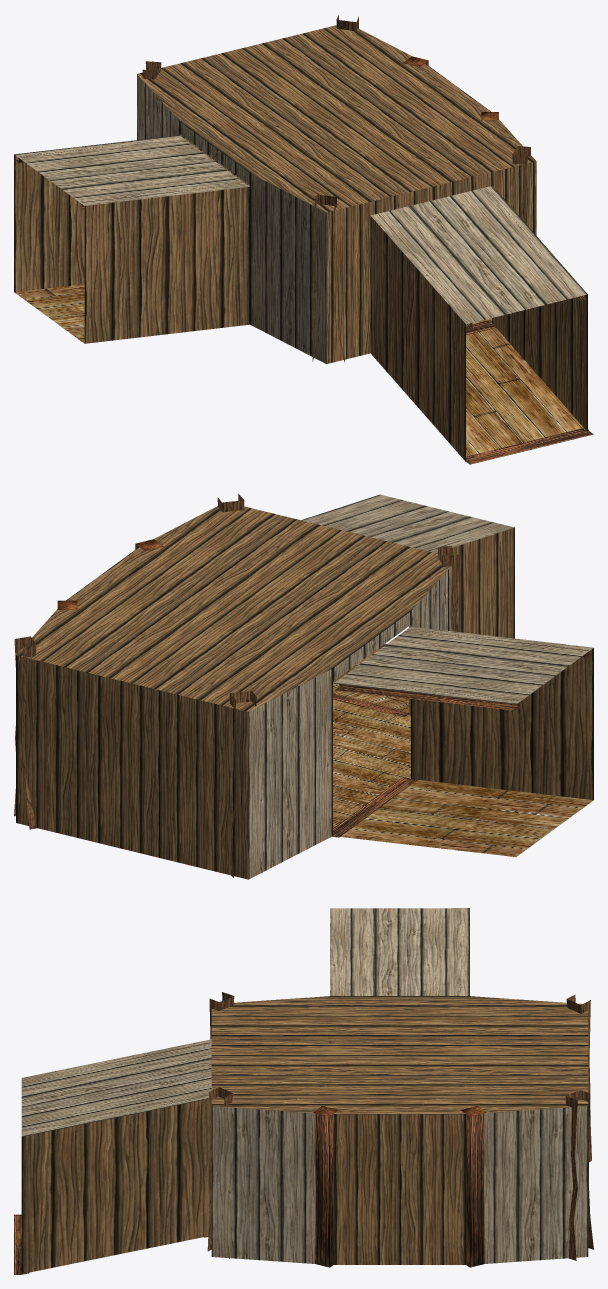
The model's file is LAKETOWN_WAREHOUSE2_PS_WH2_TRANHALL5534__GX.fbx.
The picture shows the model from 3 angles, top to bottom: view 1: azimuth 30°, elevation 25°; view 2: azimuth 150°, elevation 25°; view 3: azimuth 270°, elevation 25°; orthographic projection. The views are drawn at different scales.
Parts seen in each view (by area): view 1: LAKETOWN_WAREHOUSE2_PS_WH2_TRANHALL5534__GX; view 2: LAKETOWN_WAREHOUSE2_PS_WH2_TRANHALL5534__GX; view 3: LAKETOWN_WAREHOUSE2_PS_WH2_TRANHALL5534__GX.
Part boxes in pixels (x1=…): LAKETOWN_WAREHOUSE2_PS_WH2_TRANHALL5534__GX: x1=14, y1=15, x2=593, y2=464; LAKETOWN_WAREHOUSE2_PS_WH2_TRANHALL5534__GX: x1=14, y1=494, x2=593, y2=879; LAKETOWN_WAREHOUSE2_PS_WH2_TRANHALL5534__GX: x1=14, y1=908, x2=593, y2=1274.
Size of the model in its own units: 102097 by 46970 by 124349.
Materials: 8 (8 with a texture image).
